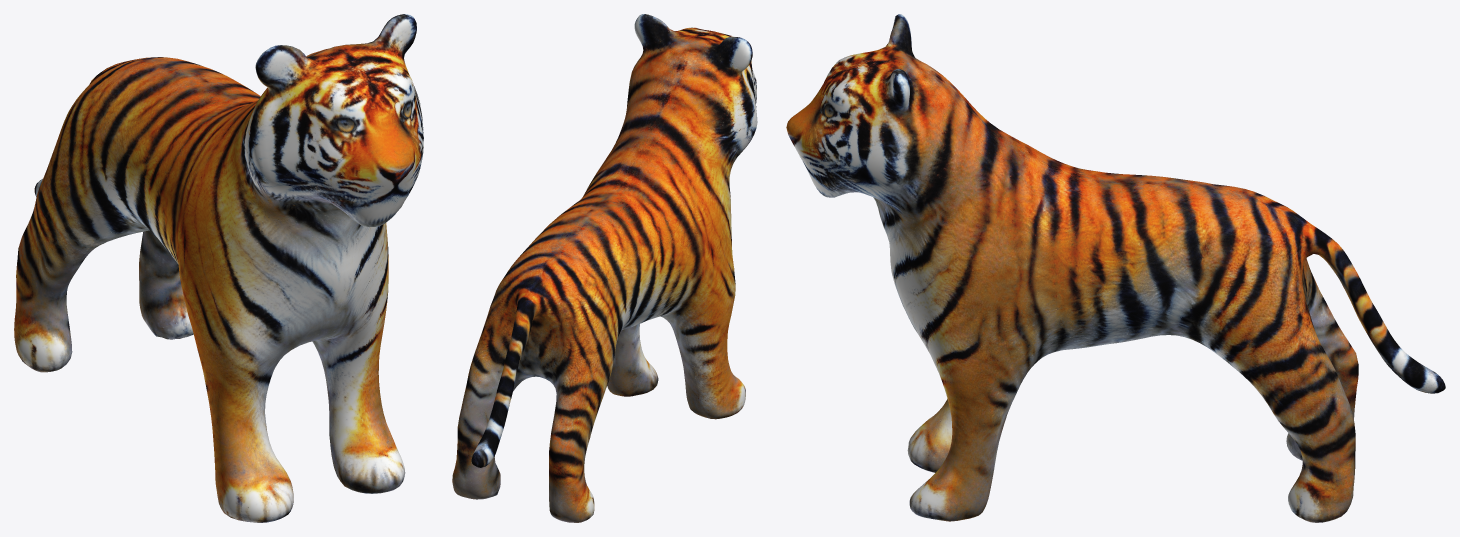
Rendered from tiger.obj.
3 renders of one model, left to right at view 1: azimuth 30°, elevation 25°; view 2: azimuth 150°, elevation 25°; view 3: azimuth 270°, elevation 25°, orthographic. The views are drawn at different scales.
Visible parts, largest first — view 1: Tiger_Quad; view 2: Tiger_Quad; view 3: Tiger_Quad.
Part boxes in pixels (bbox=[...]): Tiger_Quad: bbox=[14, 14, 423, 522]; Tiger_Quad: bbox=[452, 14, 757, 522]; Tiger_Quad: bbox=[786, 14, 1445, 522].
Size of the model in its own units: 0.5183 by 1.33 by 1.78.
Materials: 1 (1 with a texture image).
